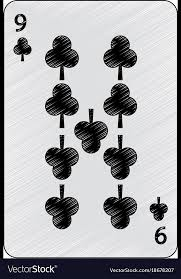eigth of clubs: (4, 1, 179, 258)
